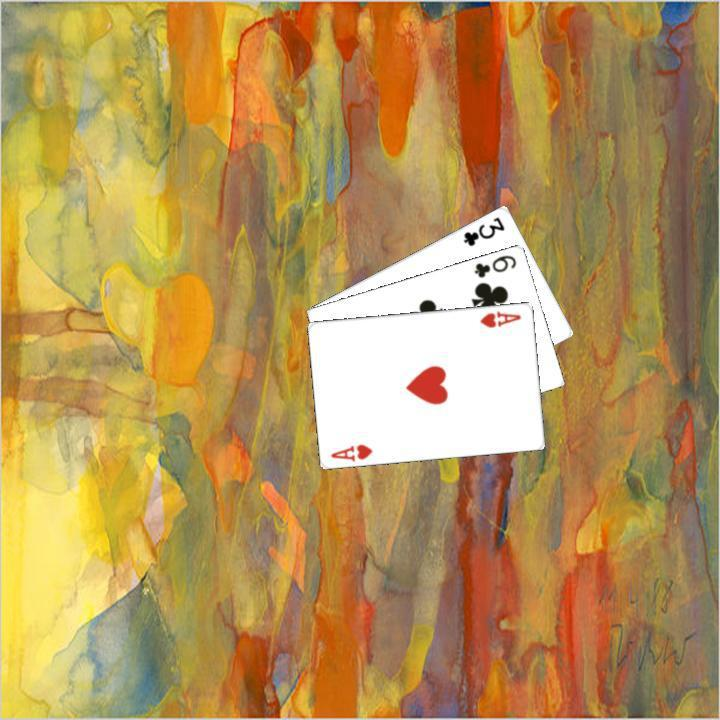3: (459, 212, 507, 248)
6: (470, 250, 518, 280)
A: (476, 306, 523, 329), (327, 440, 374, 463)
